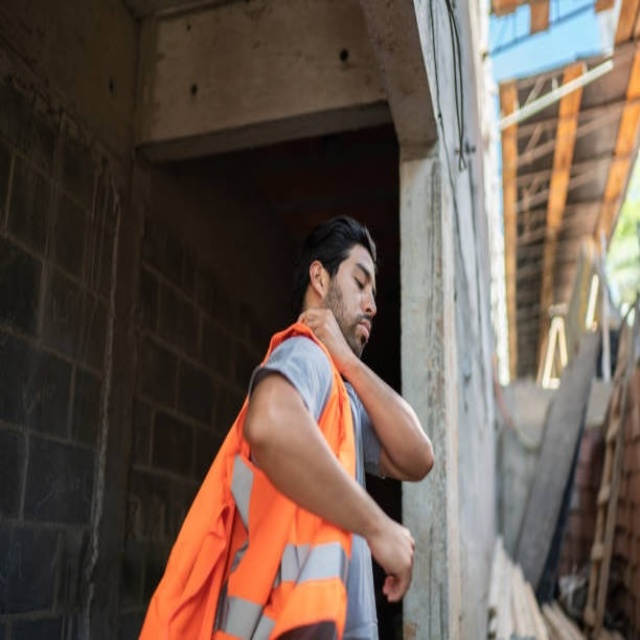Sin_gafas: (350, 257, 380, 293)
Sin_guantes: (372, 519, 416, 601), (300, 301, 348, 370)
Sin_mascara: (350, 314, 374, 345)
